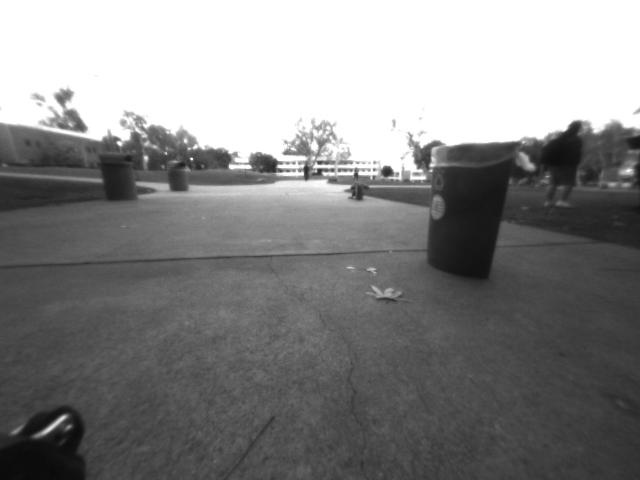trashcan_open: (422, 132, 526, 289)
